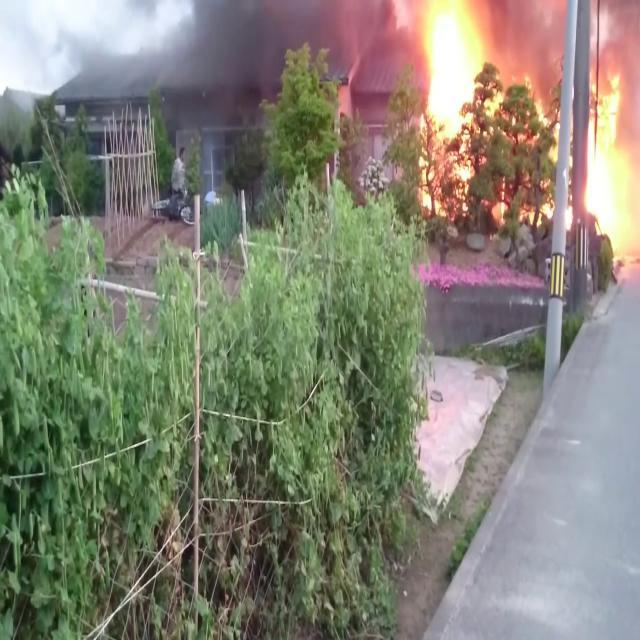Fire: (414, 2, 500, 218), (588, 75, 638, 262)
Smoke: (59, 5, 384, 90), (498, 8, 636, 92)
